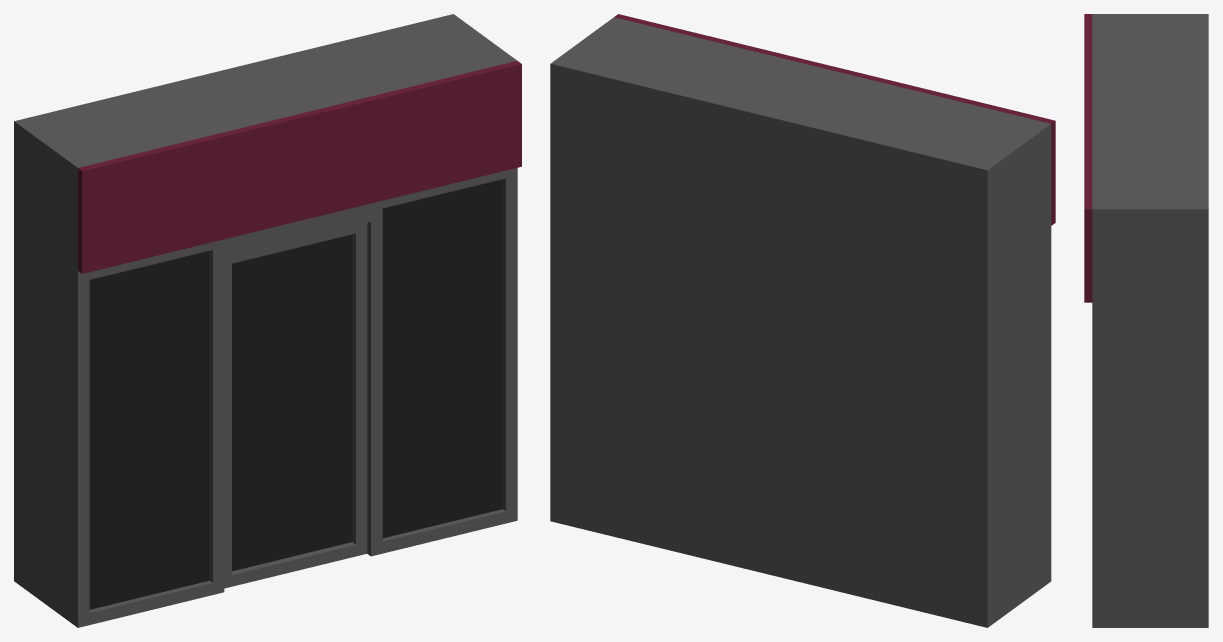
The model's file is ground_floor_wall_02.fbx.
3 views of the same model, side by side, from view 1: azimuth 30°, elevation 25°; view 2: azimuth 150°, elevation 25°; view 3: azimuth 270°, elevation 25° (orthographic). The views are drawn at different scales.
Parts seen in each view (by area): view 1: ground_floor_wall_02; view 2: ground_floor_wall_02; view 3: ground_floor_wall_02.
Part boxes in pixels (x1=…): ground_floor_wall_02: x1=14, y1=14, x2=521, y2=627; ground_floor_wall_02: x1=550, y1=14, x2=1055, y2=627; ground_floor_wall_02: x1=1084, y1=14, x2=1208, y2=627.
Size of the model in its own units: 300 by 300 by 80.74.
